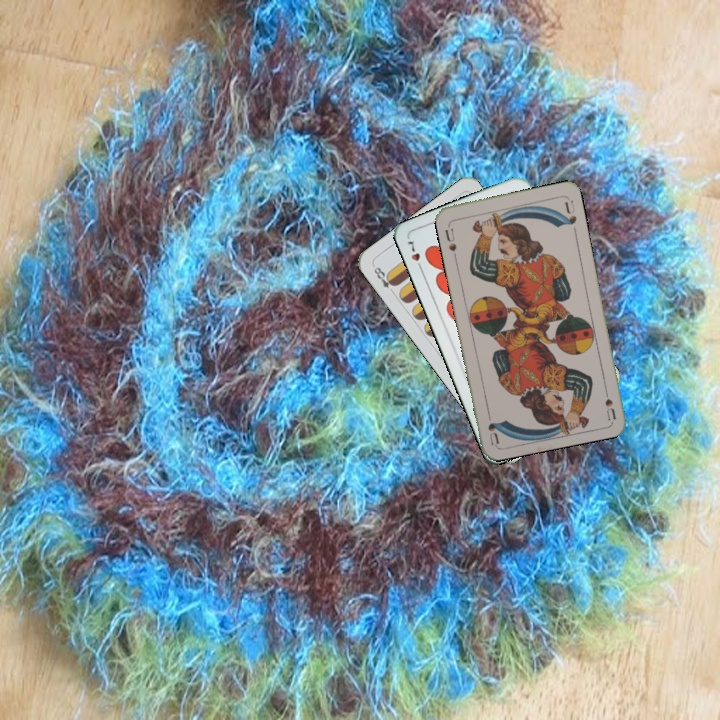E8: (369, 262, 399, 297)
H7: (404, 237, 426, 274)
SU: (600, 381, 618, 422), (441, 220, 459, 254)
